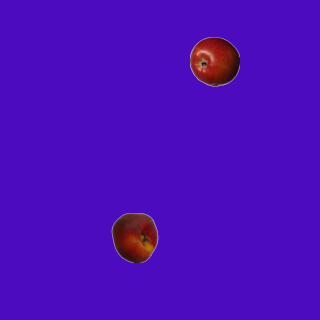Apple Braeburn: (189, 36, 239, 86)
Nectarine Flat: (109, 212, 159, 262)
